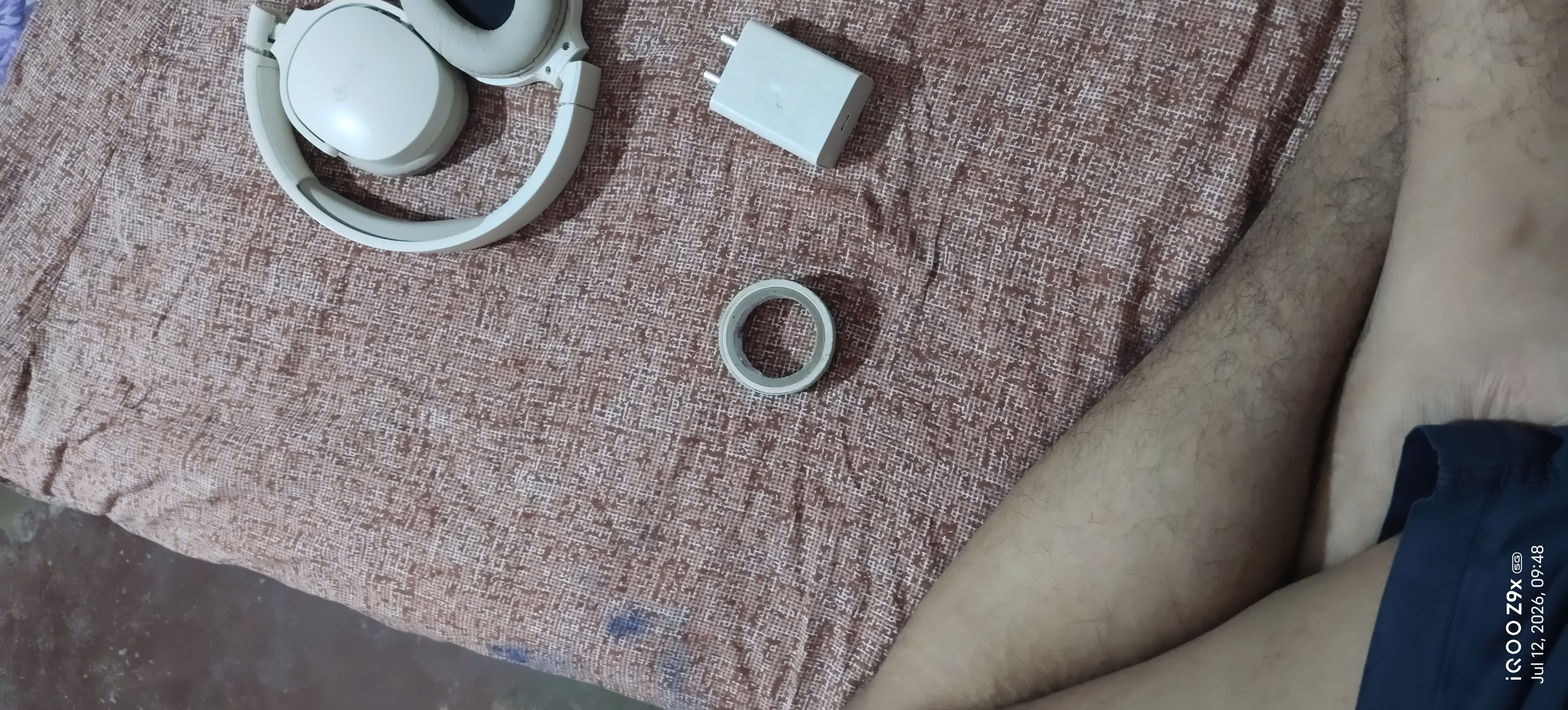charger: (680, 5, 902, 208)
tape_roll: (706, 265, 857, 414)
